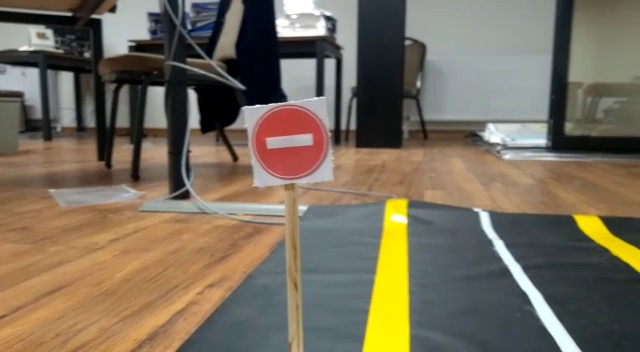girisi_olmayan_yol: (250, 96, 333, 181)
